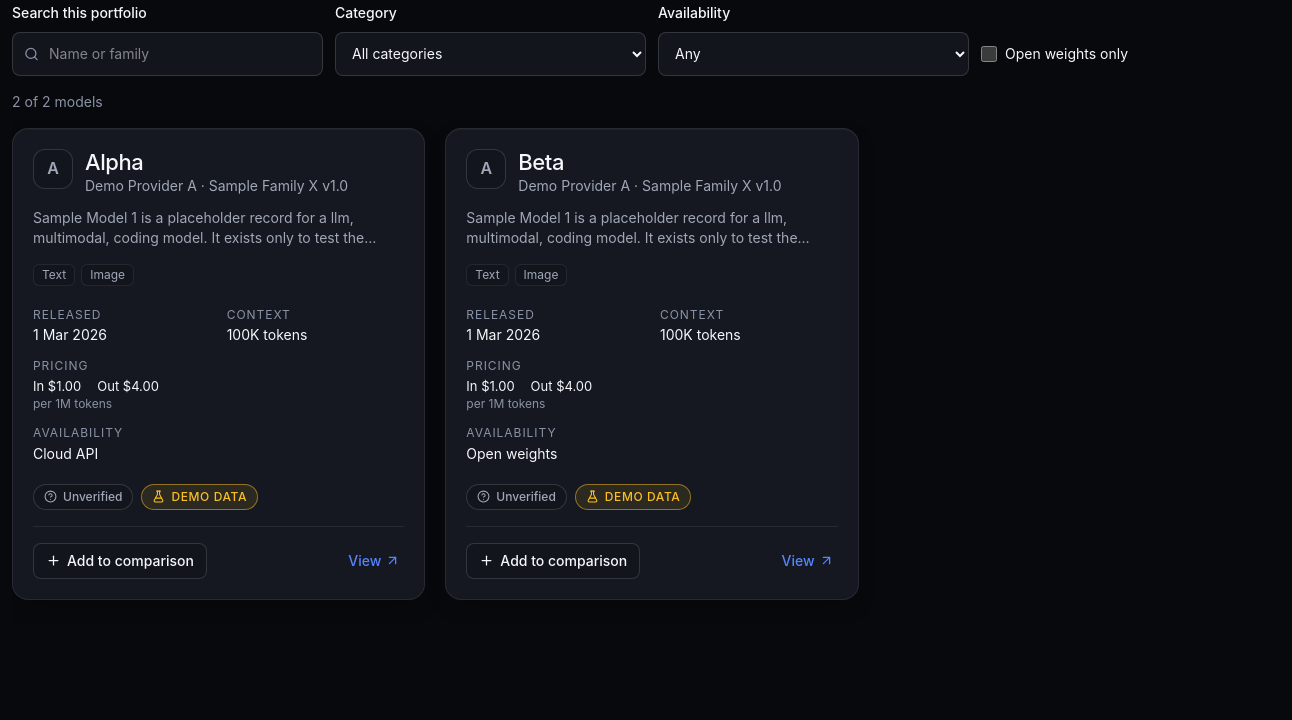
Scenario: Portfolio › shows all models, and narrows by text, category, availability and open weights
This screenshot has width=1292, height=720.
Expected: the message reads "2 of 2 models", [12,93,103,110]
Step 1. Type "beta" into the search field labelled "Search this portfolio" → (168, 54), box [12,32,323,76]
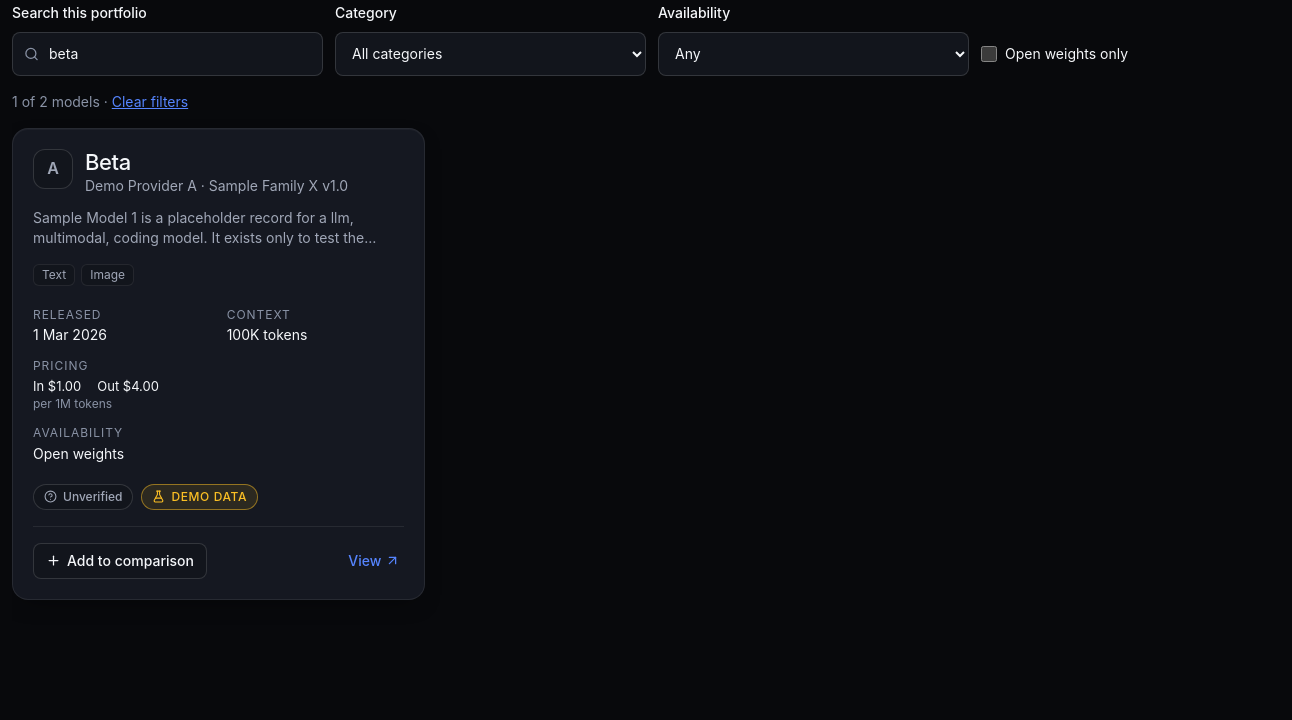
Expected: the link "Beta" is shown, [85,149,131,175]
Now the message shows "1 of 2 models", box [12,92,188,112]
Now the link "Alpha" is gone
Step 2. Click the button "Clear filters" → (150, 102), box [112,92,188,112]
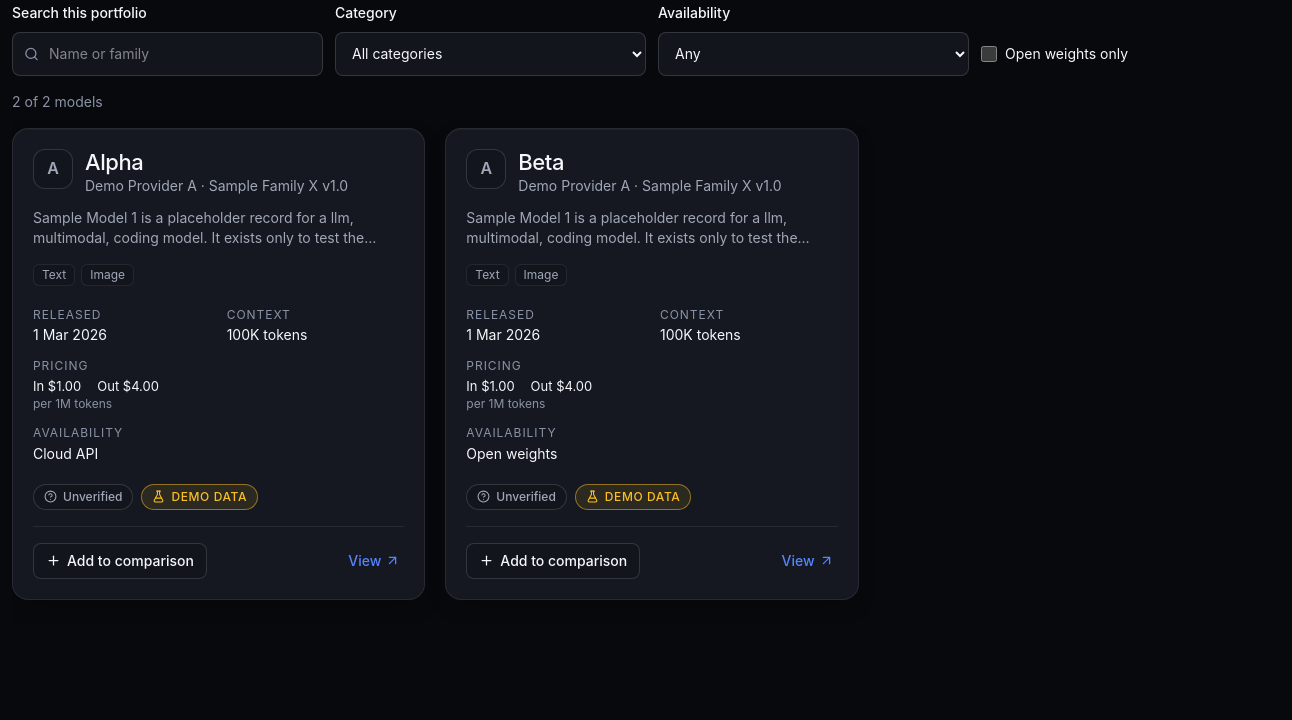
Step 3. Click the checkbox labelled "Open weights only" → (989, 54), box [981,46,997,62]
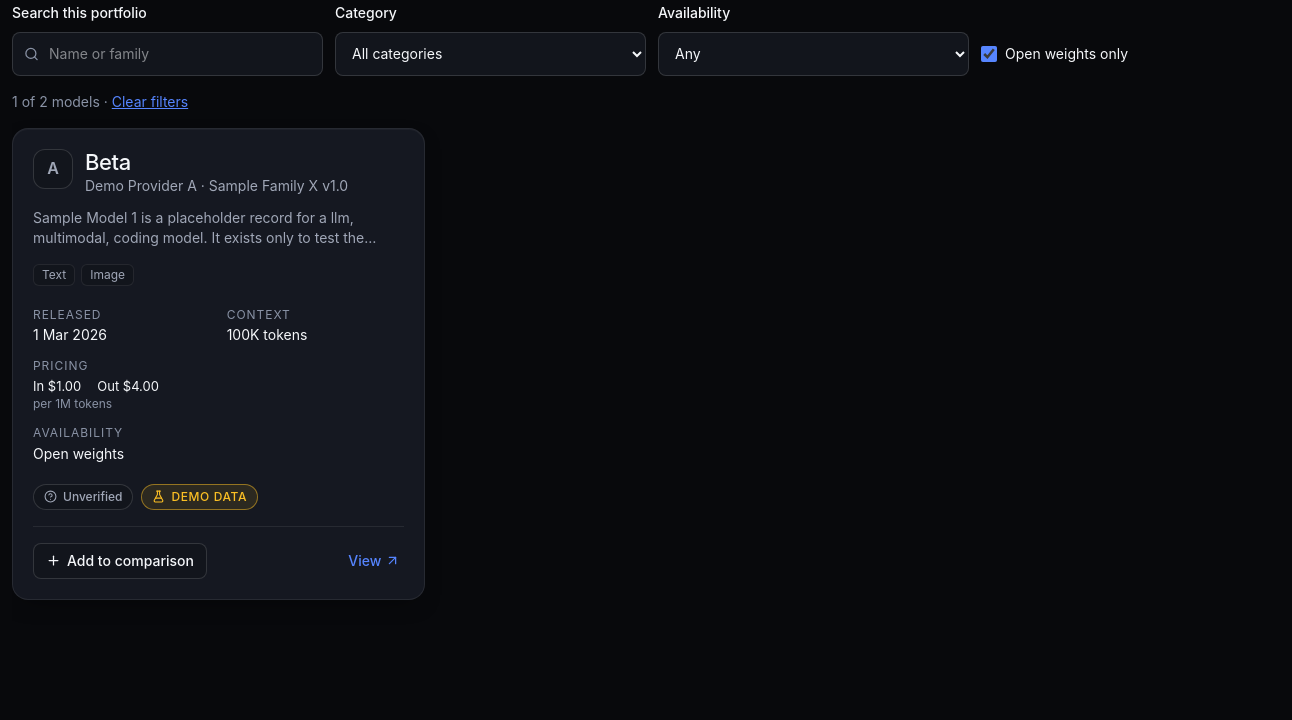
Now the message shows "1 of 2 models", box [12,92,188,112]
Step 4. Click the checkbox labelled "Open weights only" → (989, 54), box [981,46,997,62]
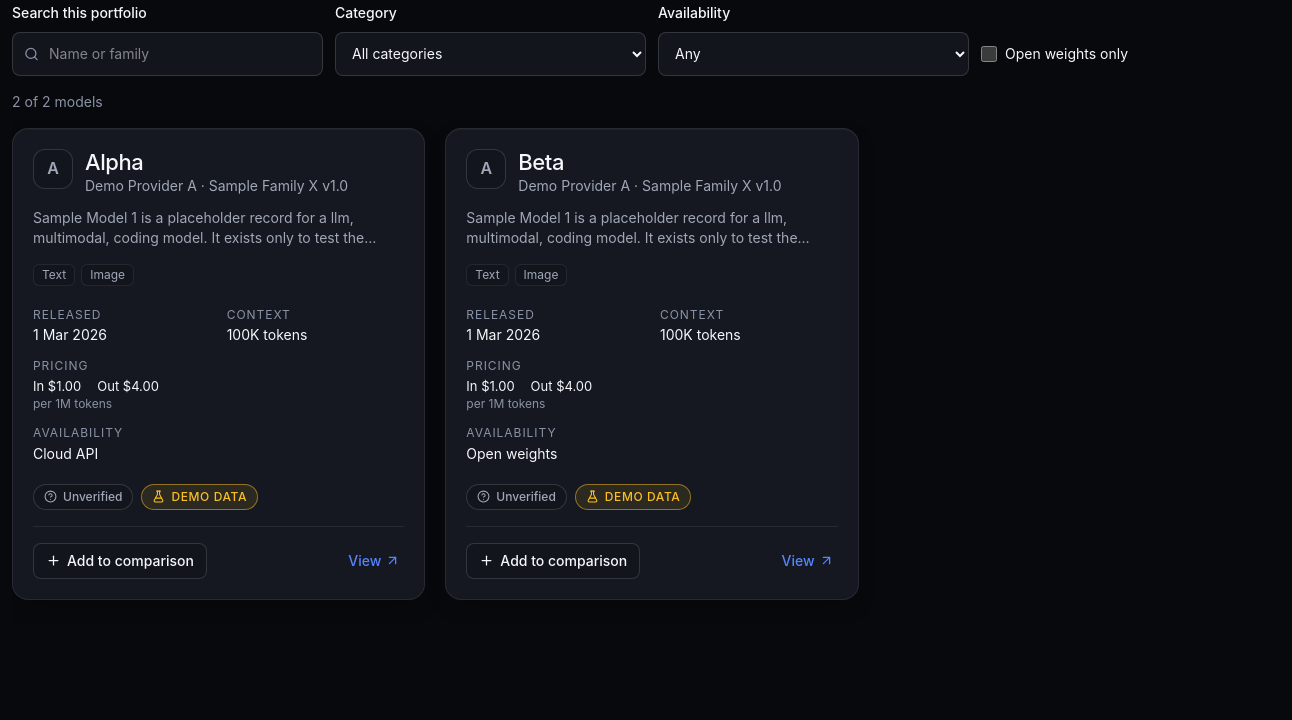
Step 5. Select "Coding" in the dropdown labelled "Category" → (490, 54), box [335,32,646,76]
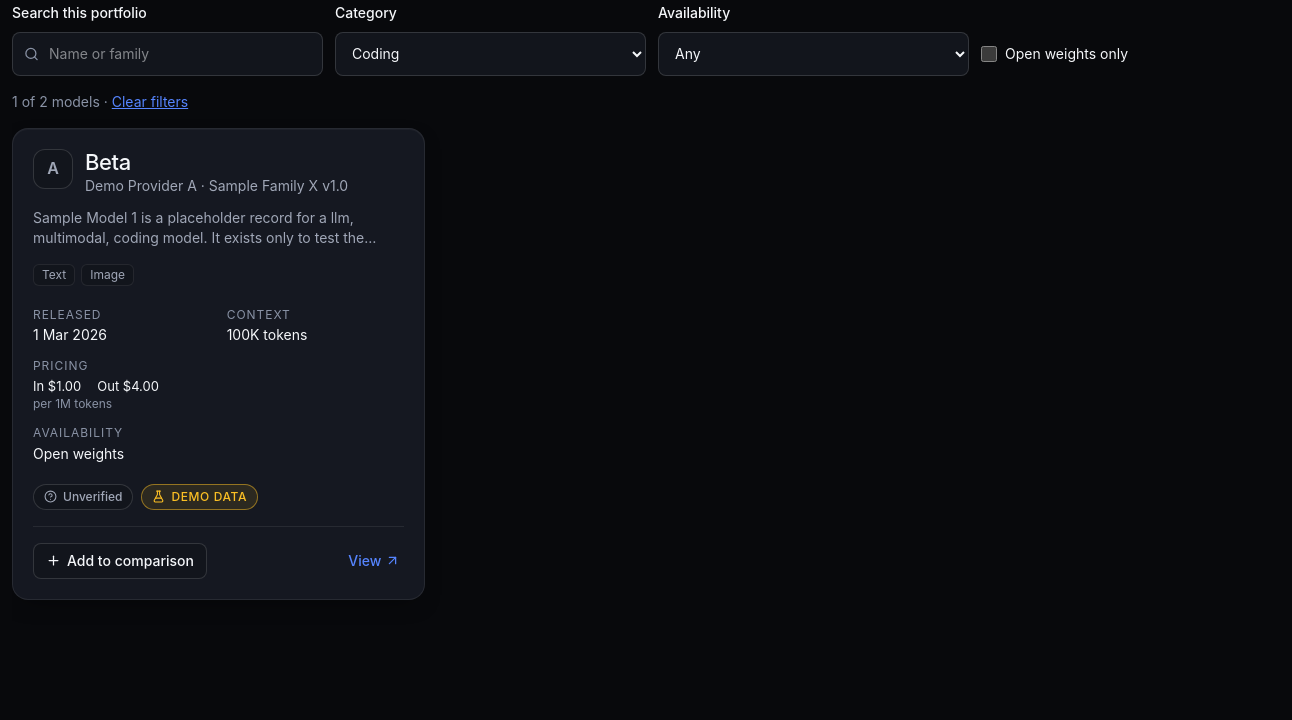
Now the message shows "1 of 2 models", box [12,92,188,112]
